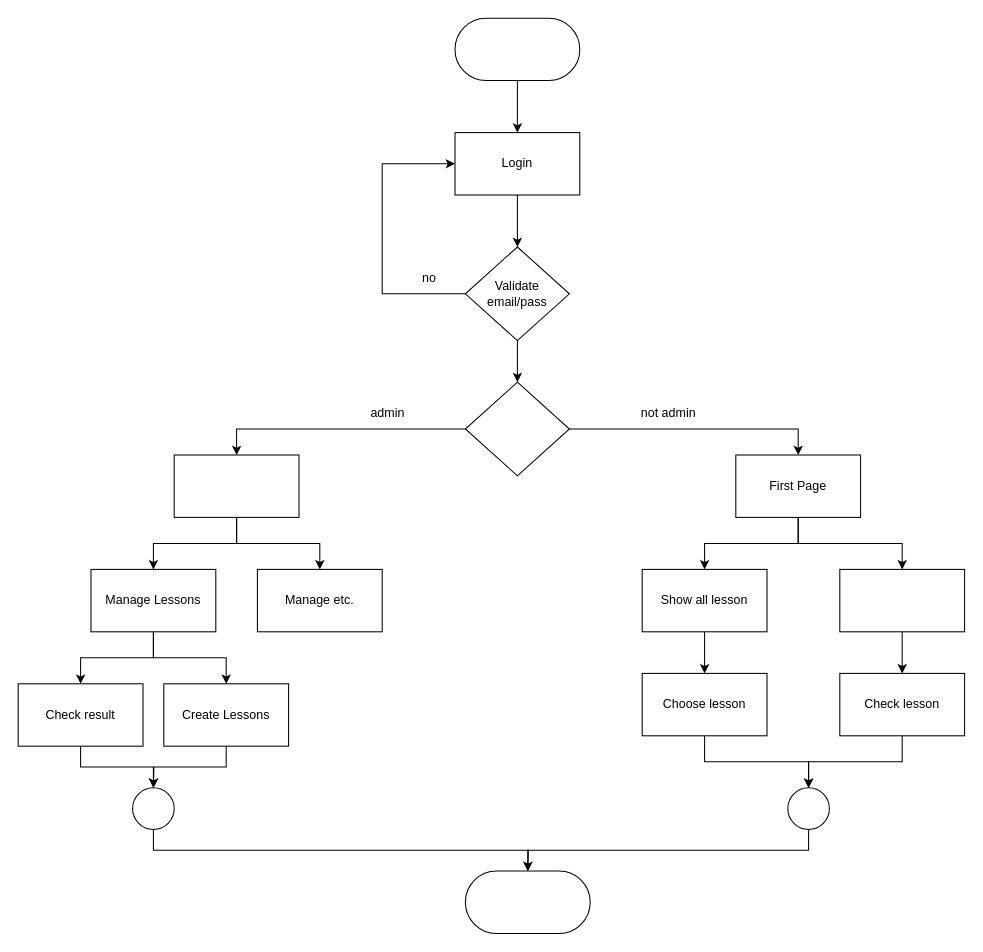
Image size: 983x952. Some labels were removed from this diagram. Here are the shapes that lost their labels. From the top down, the centre of each, then its label:
(517,49): START
(516,428): Validate permission
(236,485): Dashboard
(902,600): Show lesson activities
(527,901): END
